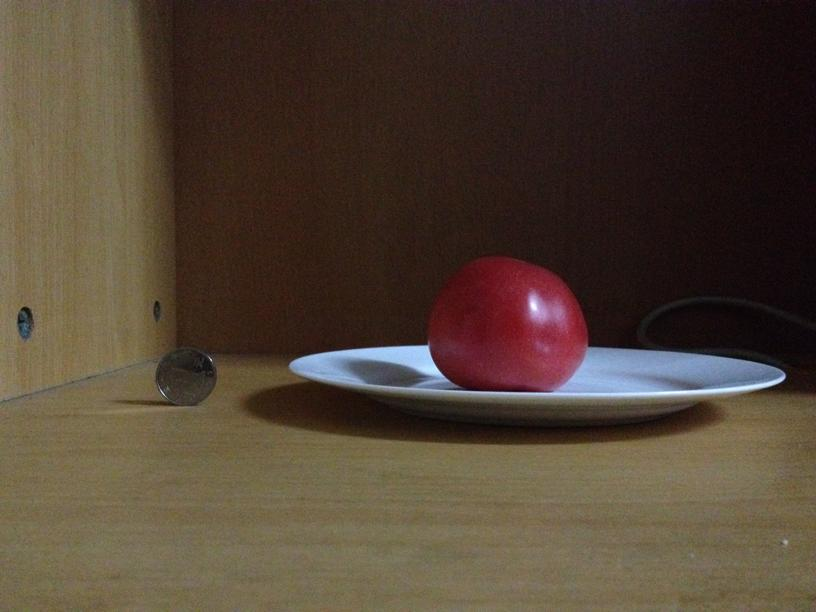coin: (152, 346, 217, 404)
tomato: (418, 254, 590, 393)
